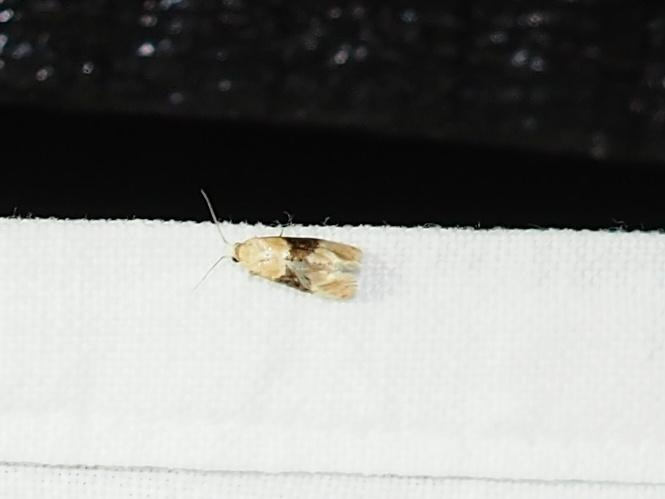Eupoecilia Ambiguella: (190, 185, 366, 303)
